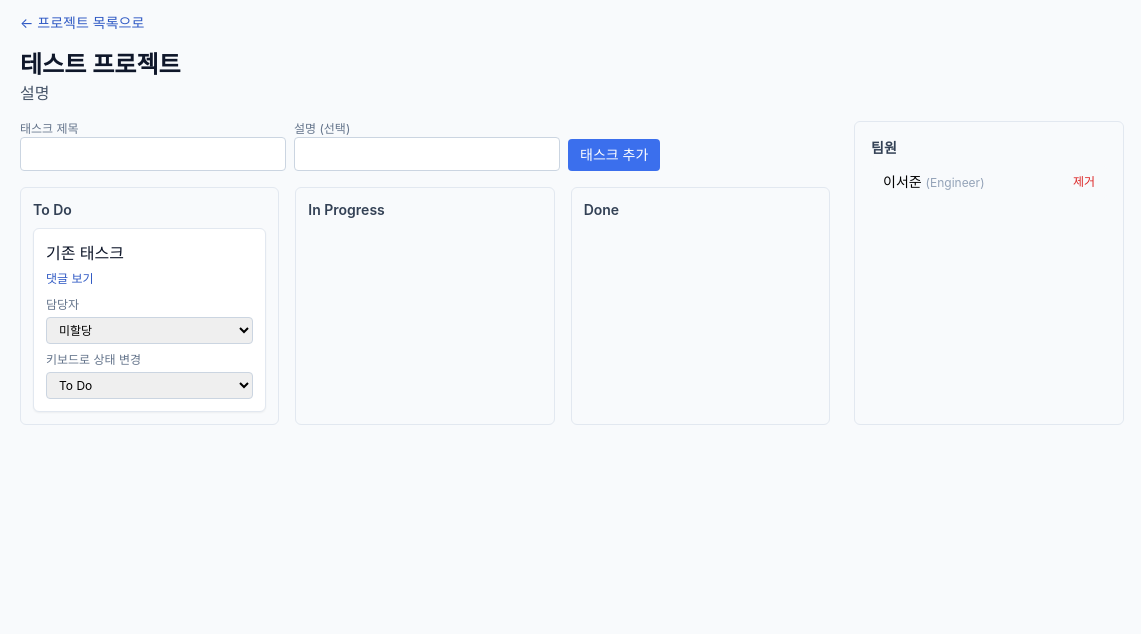
ProjectBoardPage › loads project and tasks, then creates a new task
Expected: the heading "테스트 프로젝트" is shown, top-left (20, 50), bottom-right (181, 79)
Expected: the button "기존 태스크" is shown, top-left (46, 243), bottom-right (124, 263)
In the field labelled "태스크 제목": x=153, y=154 top-left (20, 137), bottom-right (286, 171), type "새 태스크"
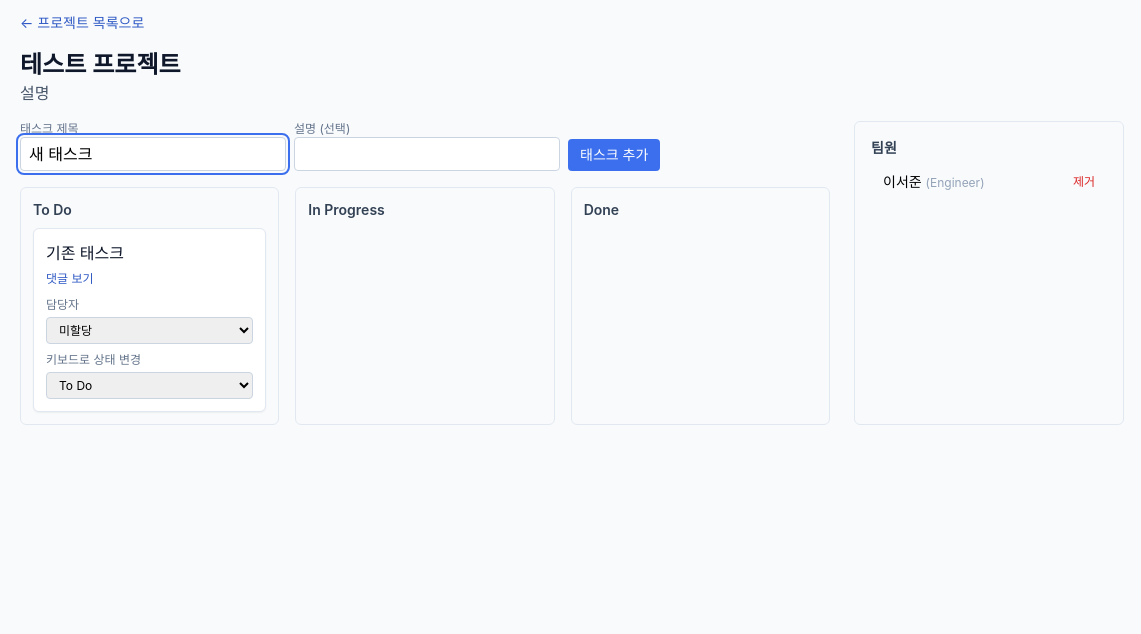
Click the button "태스크 추가": x=614, y=155 top-left (568, 139), bottom-right (660, 171)
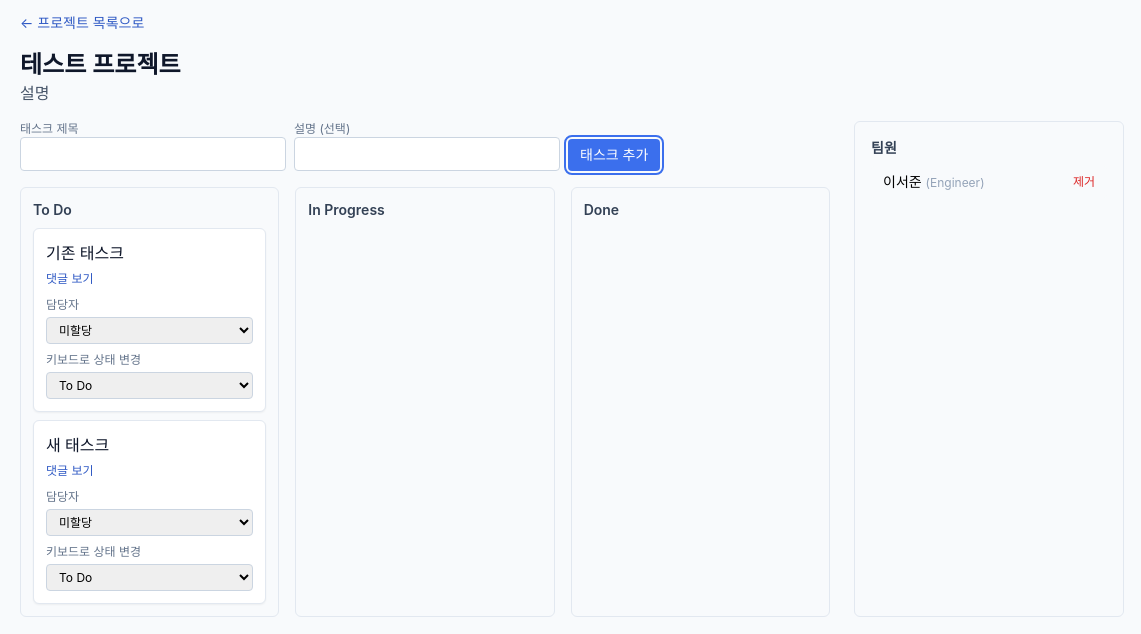
Expected: the button "새 태스크" is shown, top-left (46, 435), bottom-right (109, 455)
